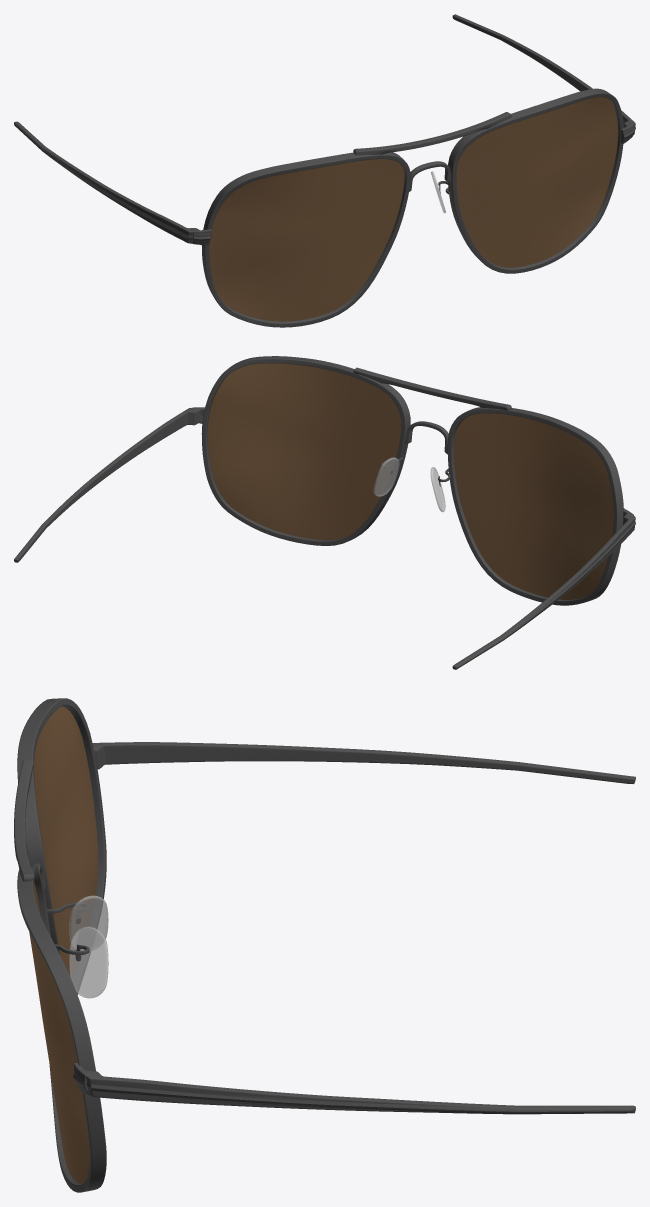
Rendered from Chromance.gltf.
The picture shows the model from 3 angles, top to bottom: view 1: azimuth 30°, elevation 25°; view 2: azimuth 150°, elevation 25°; view 3: azimuth 270°, elevation 25°; orthographic projection. The views are drawn at different scales.
Visible parts, largest first — view 1: Lentes, armacao; view 2: Lentes, armacao, Pontes; view 3: armacao, Lentes, Pontes.
Boxes of the visible parts, box(x1,y1,x2,y2) form: Lentes: box(209, 97, 618, 321); armacao: box(14, 14, 635, 327); Lentes: box(207, 363, 613, 599); armacao: box(14, 356, 635, 669); Pontes: box(373, 457, 445, 512); armacao: box(14, 698, 635, 1192); Lentes: box(29, 706, 98, 1184); Pontes: box(69, 895, 108, 998).
Bounding box in the file's own units: 0.1573 × 0.0556 × 0.1173.
Materials: 3 (3 with a texture image).
